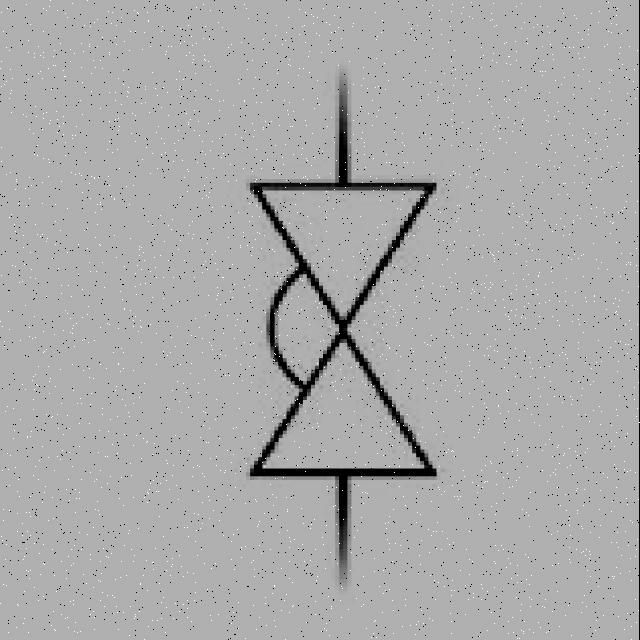Diaphragm Valve: (218, 123, 486, 533)
